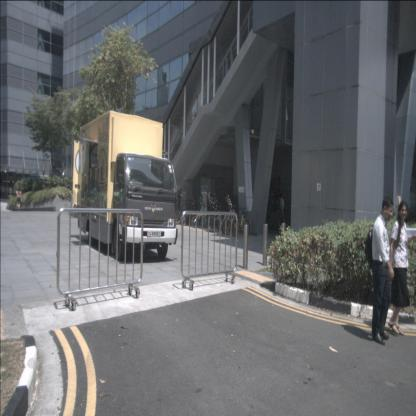human-pedestrian-adult: (364, 196, 394, 346), (388, 200, 416, 336), (277, 193, 286, 230), (15, 186, 22, 212)
vehicle-truck: (73, 111, 178, 261)
